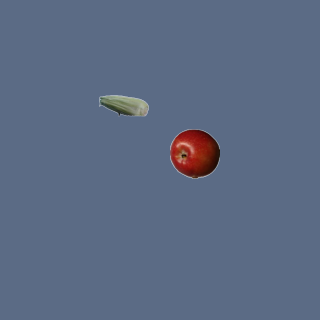Apple Braeburn: (169, 128, 219, 178)
Corn Husk: (98, 80, 148, 130)
